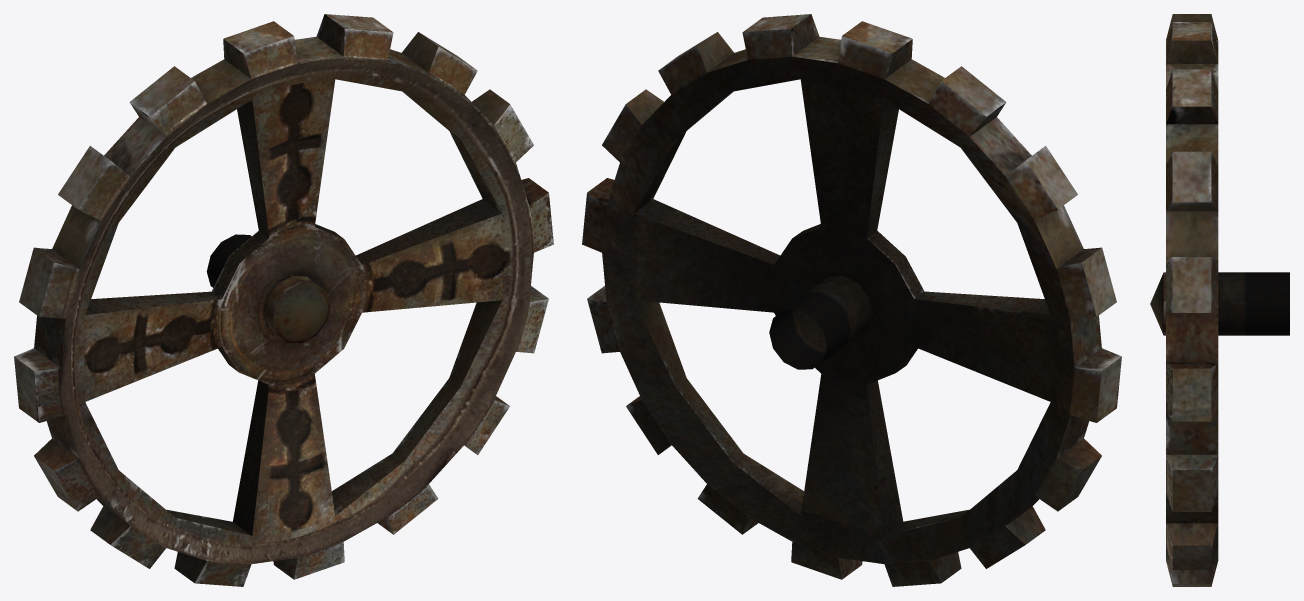
Rendered from barrier_machine_cog.dae.
The picture shows the model from 3 angles, left to right: view 1: azimuth 30°, elevation 25°; view 2: azimuth 150°, elevation 25°; view 3: azimuth 270°, elevation 25°; orthographic projection. The views are drawn at different scales.
Visible parts, largest first — view 1: polySurface7; view 2: polySurface7; view 3: polySurface7.
Part boxes in pixels (x1,y1,x2,y2): polySurface7: (14, 14, 553, 586); polySurface7: (582, 14, 1121, 586); polySurface7: (1150, 14, 1289, 586).
Bounding box in the file's own units: 0.9816 × 0.9816 × 0.2392.
